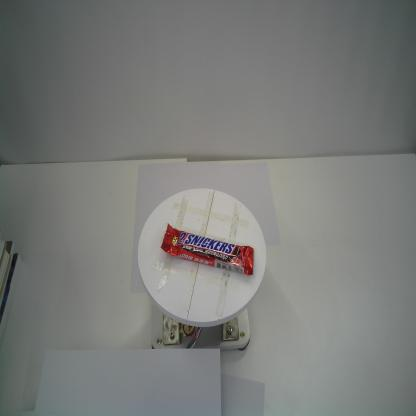Chocolate: (162, 220, 256, 282)
